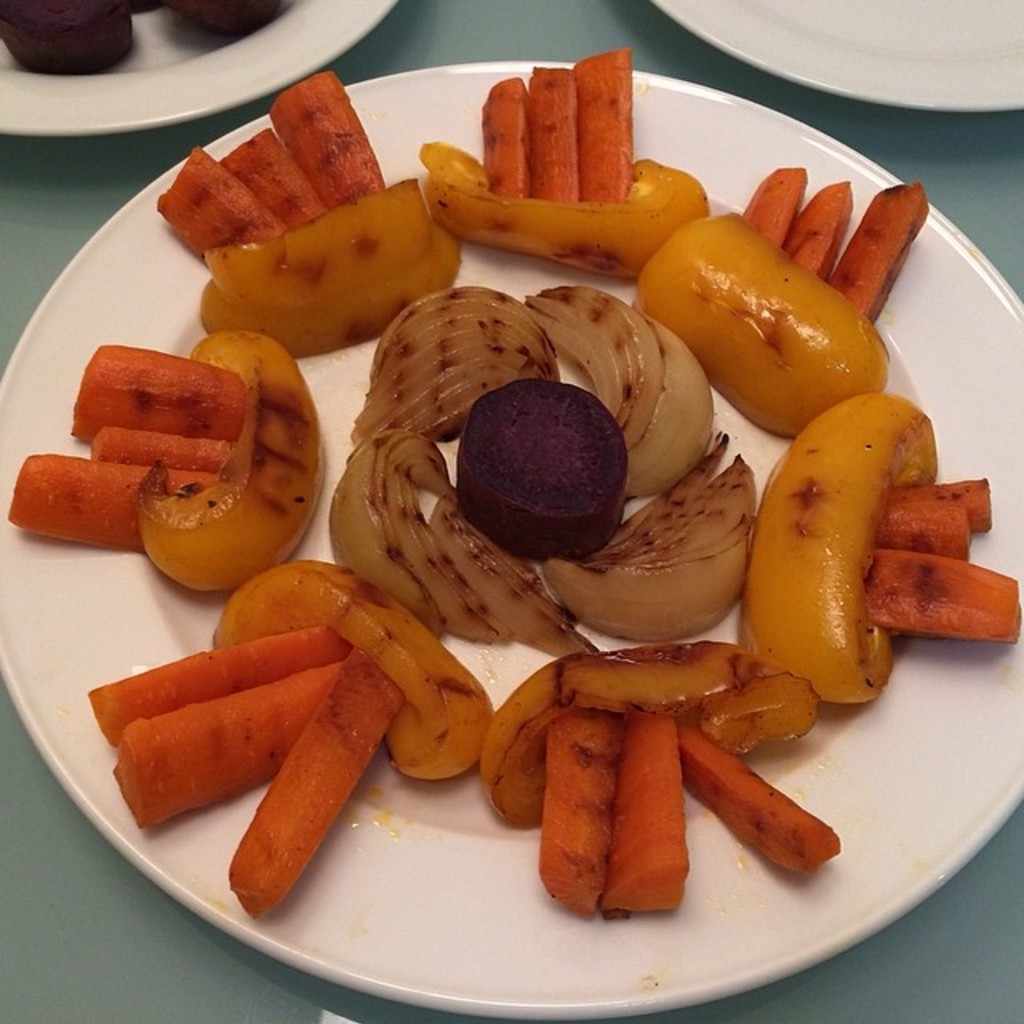Carrot: (222, 647, 407, 921), (107, 663, 348, 832), (88, 621, 358, 754), (675, 723, 846, 880), (595, 711, 694, 912), (538, 719, 624, 918), (69, 344, 241, 443), (270, 68, 388, 207), (3, 447, 150, 554), (866, 545, 1021, 644), (158, 146, 286, 254), (830, 187, 927, 315), (219, 125, 322, 224), (575, 45, 635, 194), (86, 423, 238, 473), (528, 68, 575, 199), (788, 183, 854, 272), (480, 76, 528, 197), (876, 500, 969, 559), (892, 475, 985, 530), (742, 171, 806, 248)
